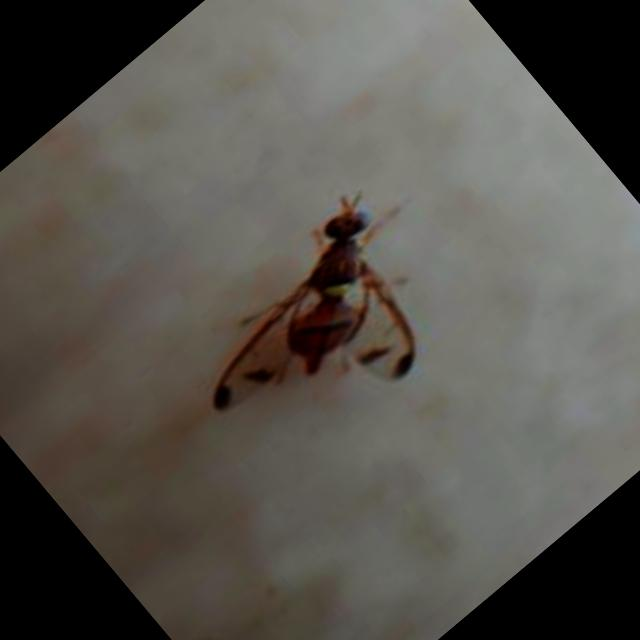melon fly: (132, 111, 520, 492)
